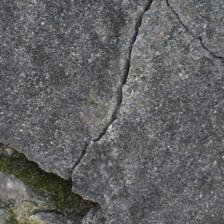Crack: (52, 67, 105, 155), (73, 135, 131, 211), (0, 82, 73, 136)
